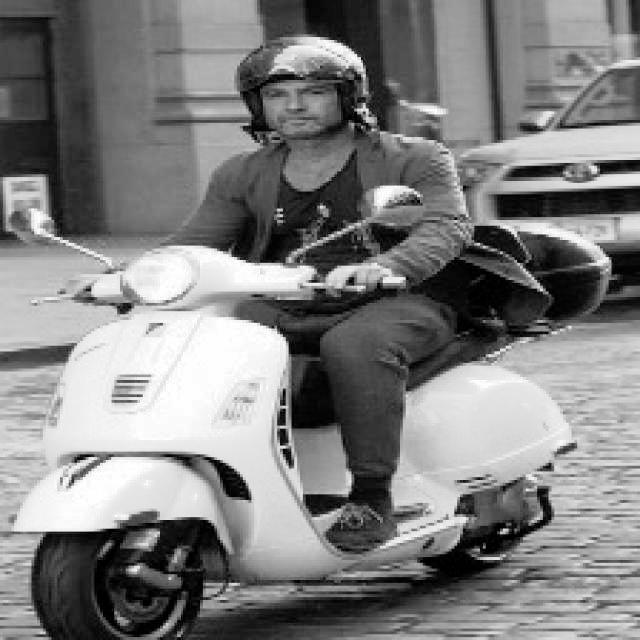Bike: (45, 266, 599, 639)
